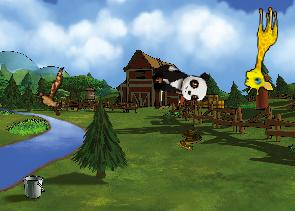eagle: (29, 67, 74, 120)
giraffe: (243, 5, 278, 96)
panda: (147, 62, 212, 104)
